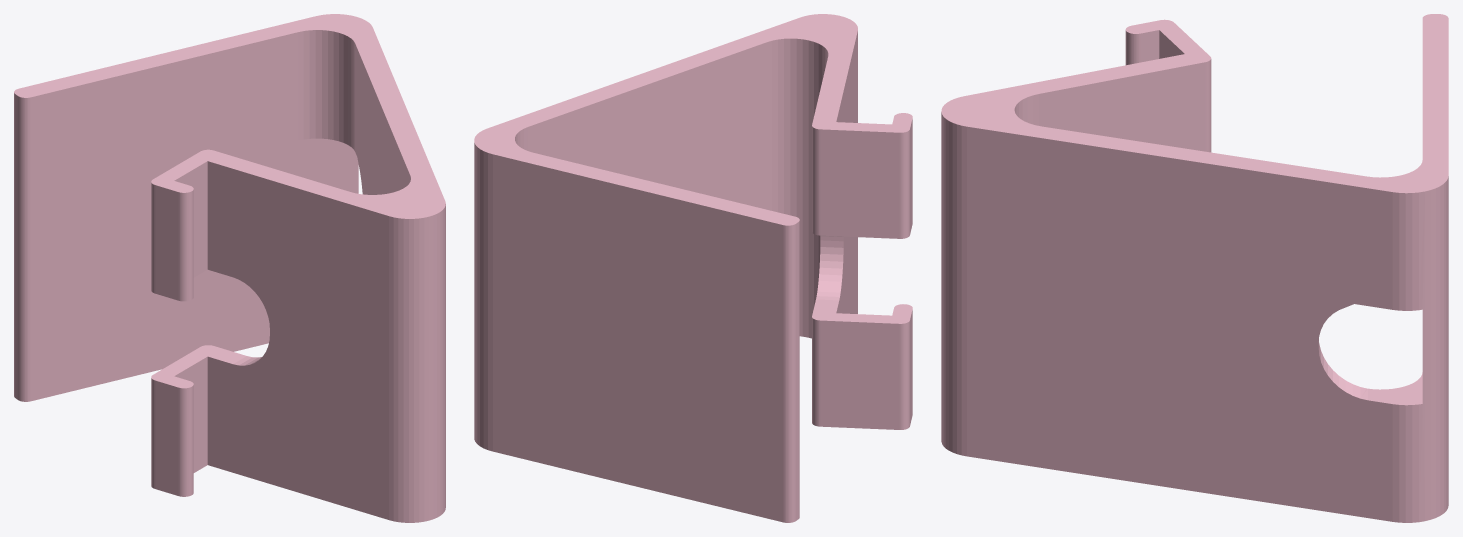
Rendered from soporte-celular-liso.glb.
3 renders of one model, left to right at view 1: azimuth 30°, elevation 25°; view 2: azimuth 150°, elevation 25°; view 3: azimuth 270°, elevation 25°, orthographic. The views are drawn at different scales.
Visible parts, largest first — view 1: pieza; view 2: pieza; view 3: pieza.
Boxes of the visible parts, <box> form: pieza: <box>14,14,445,522</box>; pieza: <box>474,14,912,522</box>; pieza: <box>941,14,1448,522</box>.
Size of the model in its own units: 0.0816 by 0.07 by 0.0976.
